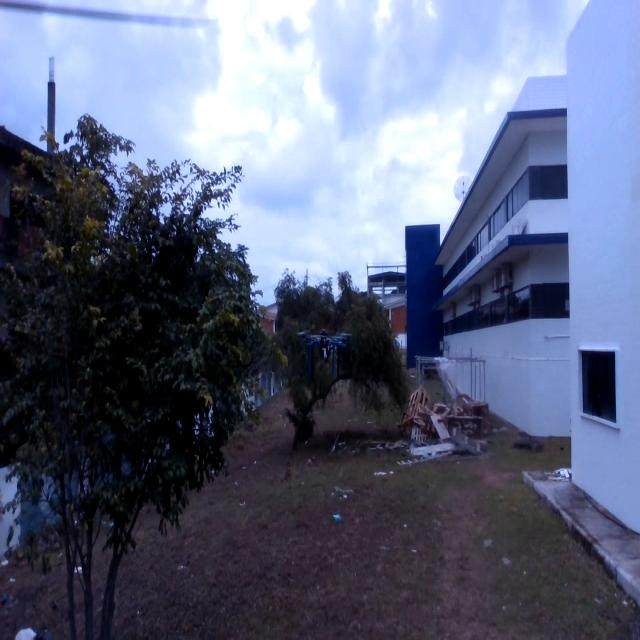-uav-: (295, 317, 348, 378)
